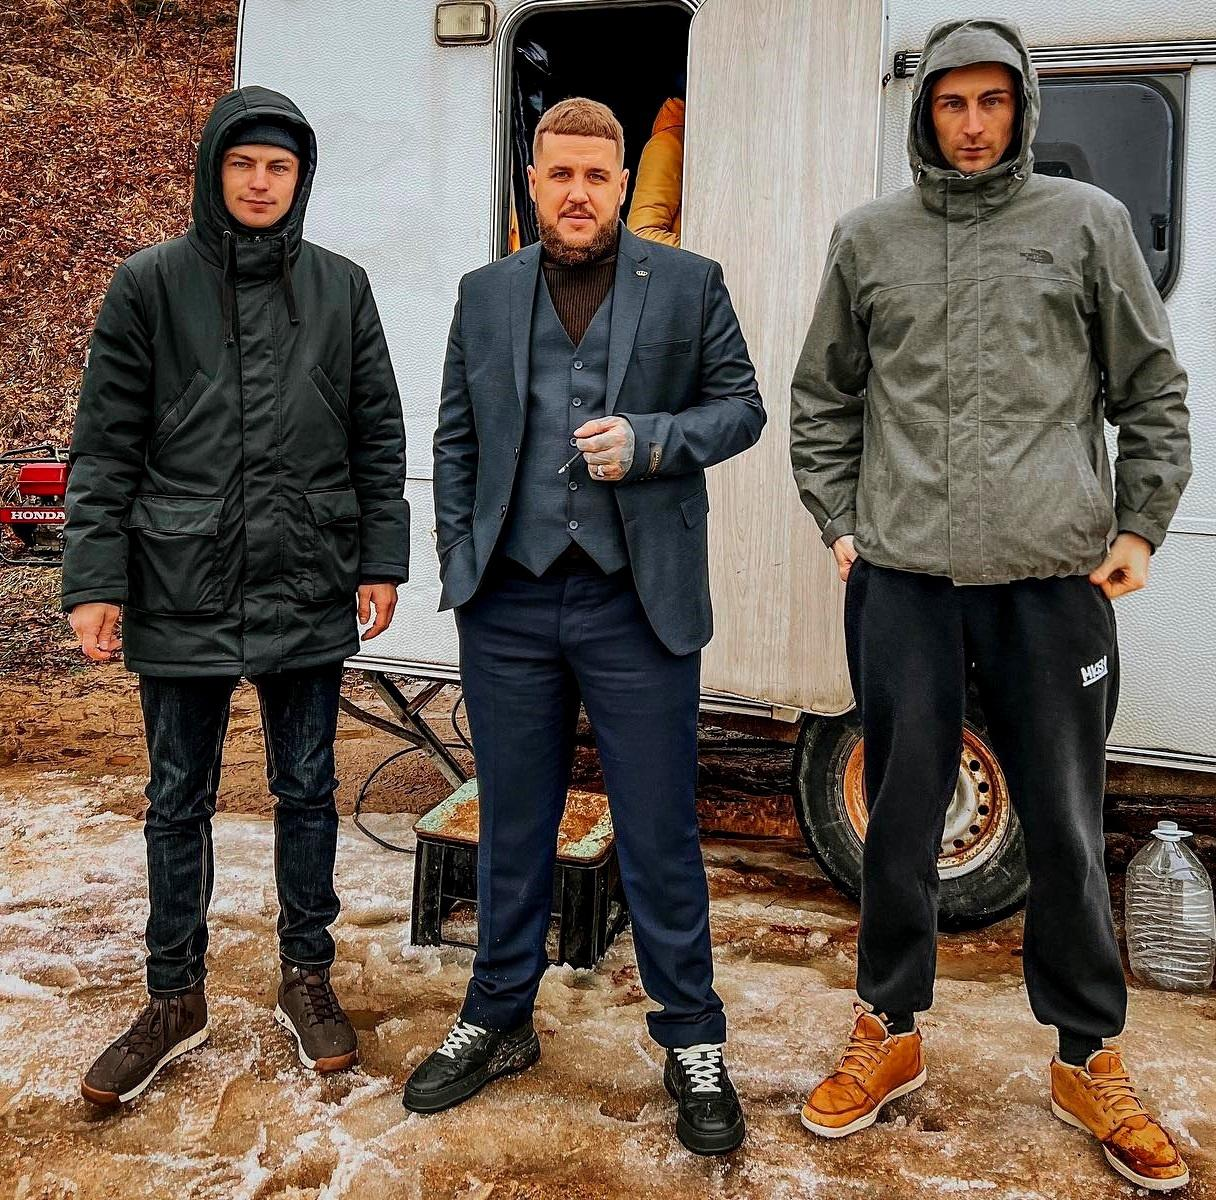cigarette: (558, 451, 583, 475)
